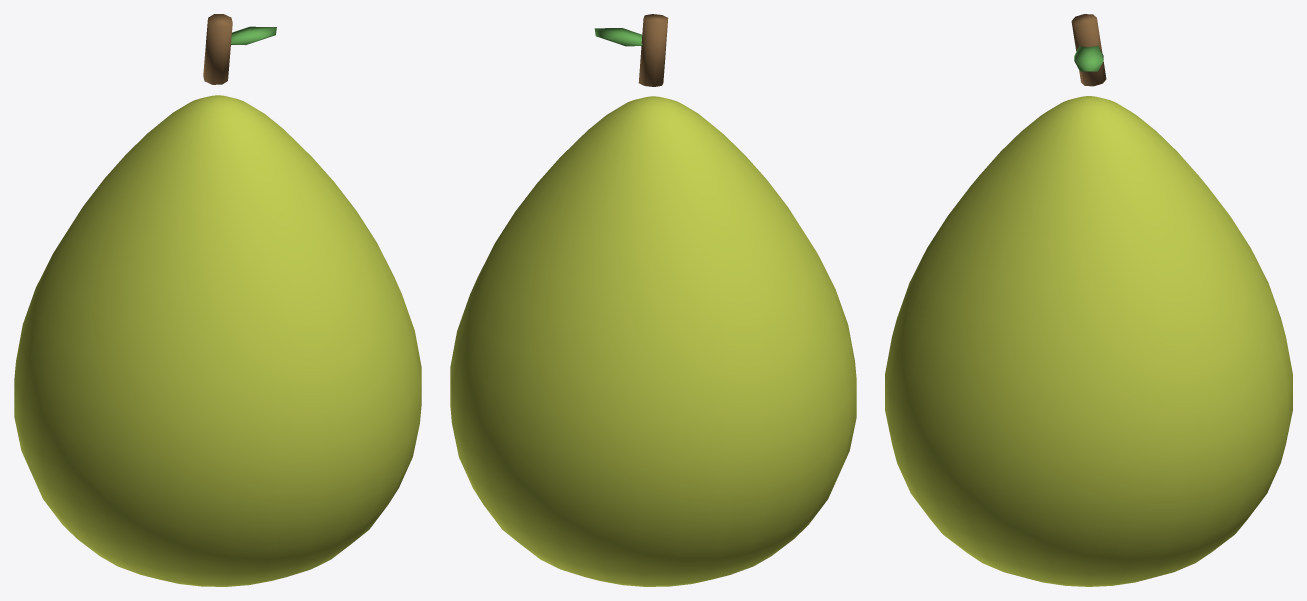
Rendered from pear.glb.
3 renders of one model, left to right at view 1: azimuth 30°, elevation 25°; view 2: azimuth 150°, elevation 25°; view 3: azimuth 270°, elevation 25°, orthographic.
Parts seen in each view (by area): view 1: pear; view 2: pear; view 3: pear.
Part boxes in pixels (bbox=[...]): pear: bbox=[14, 14, 421, 586]; pear: bbox=[450, 14, 856, 586]; pear: bbox=[885, 14, 1292, 586].
Bounding box in the file's own units: 0.6794 × 1 × 0.6794.
